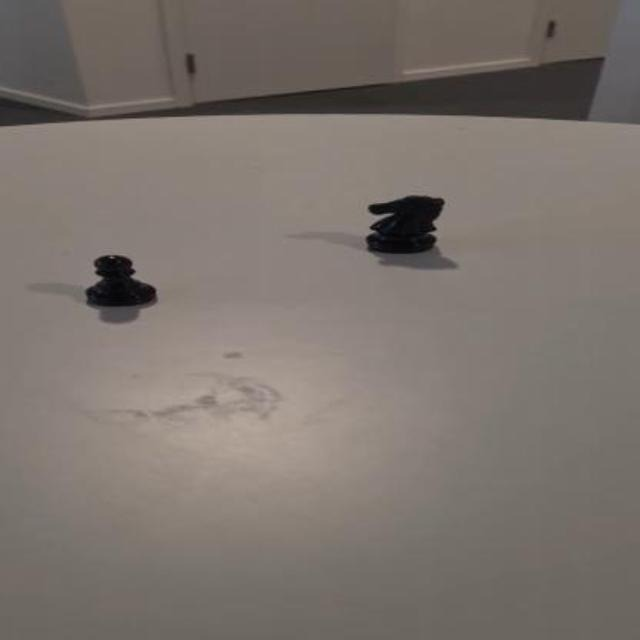black-knight: (363, 192, 444, 256)
black-pawn: (80, 252, 160, 307)
